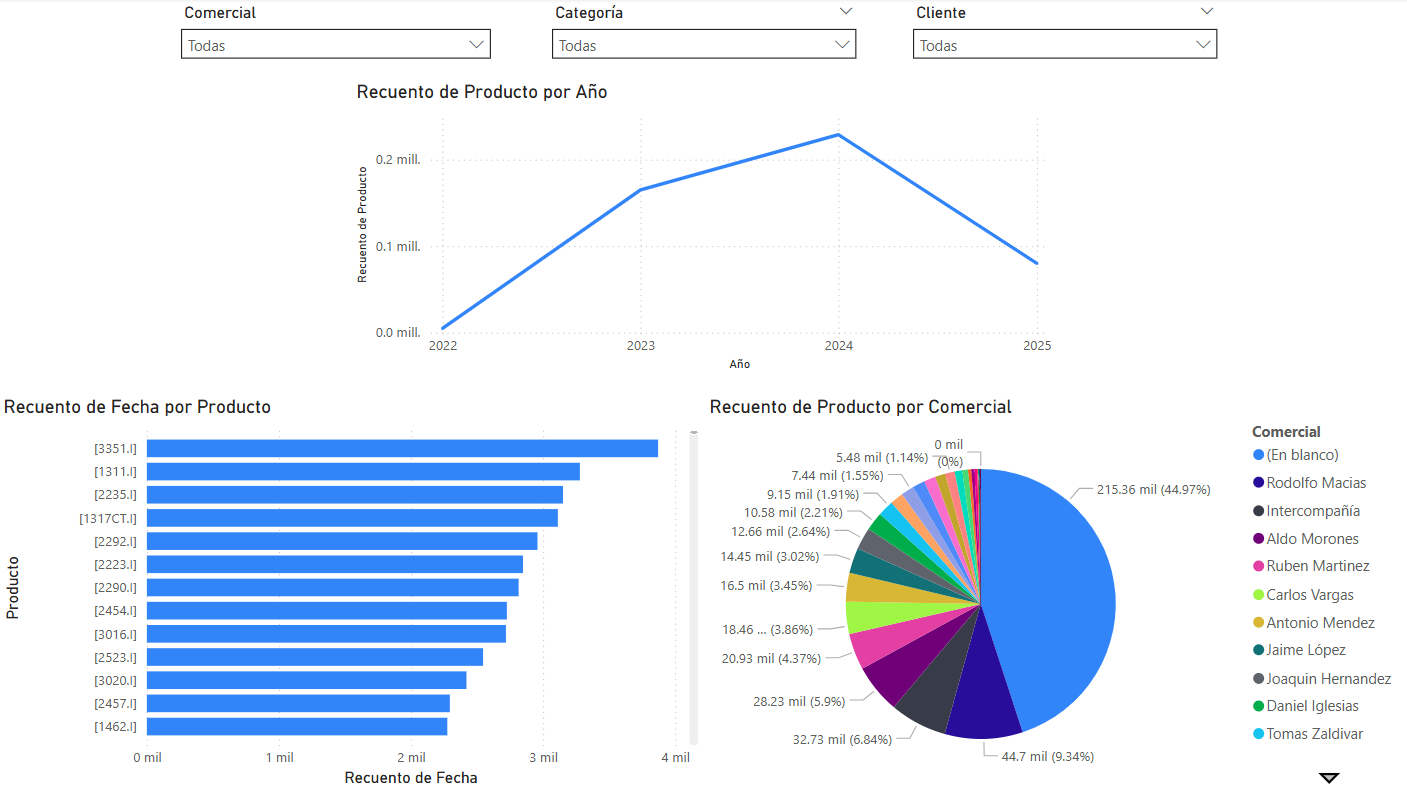

The page's visual inventory and layout, read from the dashboard file:
{"tool":"powerbi","page":{"name":"Página 1","canvas":[1280,720],"ordinal":0},"visuals":[{"type":"barChart","fields":{"Category":["Sheet1.Producto"],"Y":["Sheet1.Fecha"]},"box":[0,359.9,640,359.9],"z":0},{"type":"pieChart","fields":{"Y":["Sheet1.Producto"],"Category":["Sheet1.Comercial"]},"box":[640,359.9,640,359.9],"z":1000},{"type":"slicer","fields":{"Values":["Sheet1.Comercial"]},"box":[155.6,0,300.5,73.9],"z":2000},{"type":"slicer","fields":{"Values":["Sheet1.Categoría"]},"box":[492.2,0,295.7,73.9],"z":3000},{"type":"slicer","fields":{"Values":["Sheet1.Cliente"]},"box":[819.9,0,295.7,73.9],"z":4000},{"type":"lineChart","fields":{"Category":["Sheet1.Fecha.Variación.Jerarquía de fechas.Año","Sheet1.Fecha.Variación.Jerarquía de fechas.Trimestre","Sheet1.Fecha.Variación.Jerarquía de fechas.Mes","Sheet1.Fecha.Variación.Jerarquía de fechas.Día"],"Y":["Sheet1.Producto"]},"box":[320,73.9,640,268.4],"z":5000}]}

Visuals, with their boxes in screenshot pixels (x1, y1, x2, y2), scaled from the page's 1280x720 canvas onto the 1407x790 screenshot:
barChart - Sheet1.Producto x Sheet1.Fecha: box=[0, 395, 704, 789]
pieChart - Sheet1.Producto x Sheet1.Comercial: box=[704, 395, 1406, 789]
slicer - Sheet1.Comercial: box=[171, 0, 501, 81]
slicer - Sheet1.Categoría: box=[541, 0, 866, 81]
slicer - Sheet1.Cliente: box=[901, 0, 1226, 81]
lineChart - Sheet1.Fecha.Variación.Jerarquía de fechas.Año x Sheet1.Fecha.Variación.Jerarquía de fechas.Trimestre: box=[352, 81, 1055, 376]
